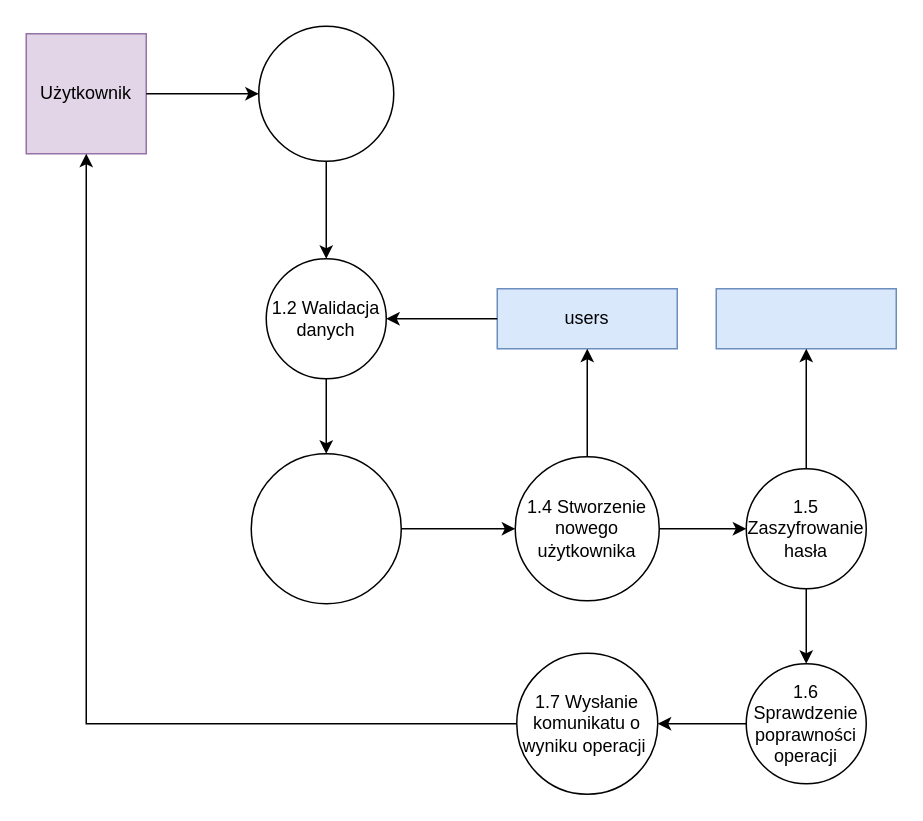
The diagram is 923 pixels wide and 821 high, and some of its shapes have lost their labels. The centre of each missing label's shape, as x and y in pixels:
"1.1 Wprowadzenie danych przez użytkownika" goes at pixel 325 93.
"1.3 Wysłanie żądania stworzenia nowego użytkownika" goes at pixel 325 528.
"users_password" goes at pixel 805 318.
